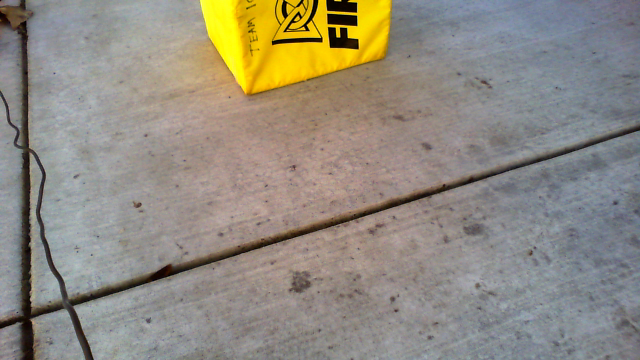cube: (198, 1, 393, 97)
